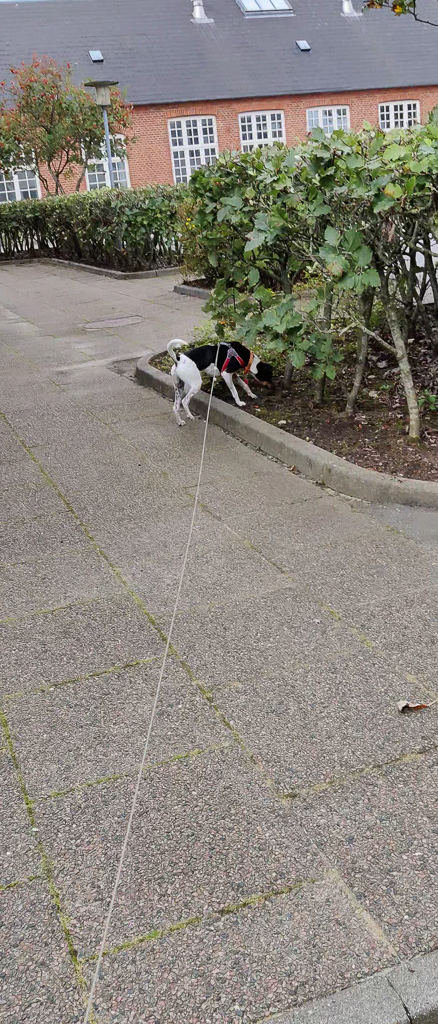Dog: (159, 331, 280, 432)
